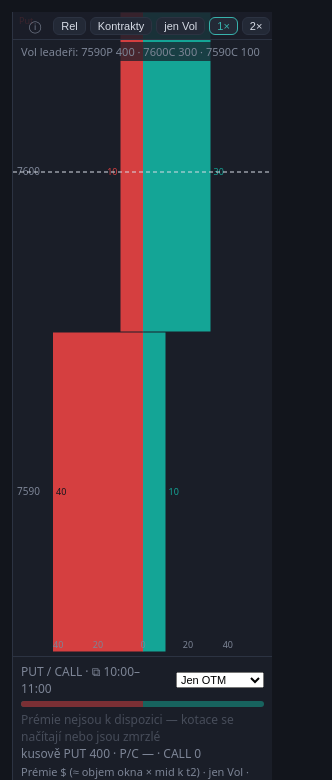
Test: range mód: default „jen Vol" — OI složky mají nulovou šířku (#485)
# Zapnutí kombinace: OI se vrátí, ale ztlumené a šrafované (statické, EOD)
Click the button with test id "window-oi-toggle".
click(181, 26)  # box [156,16,205,34]
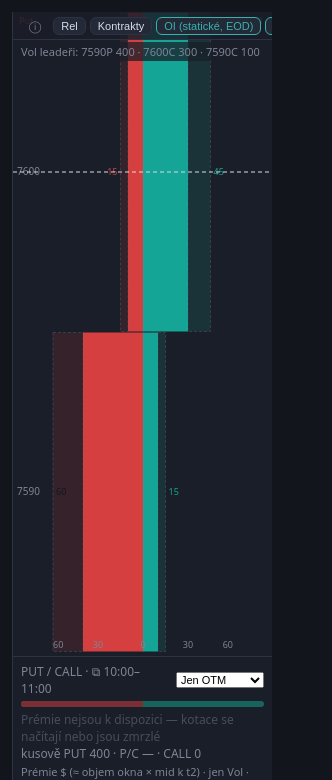
expect the button with test id "window-oi-toggle" reads "OI (statické, EOD)": met, box [156,16,262,34]
